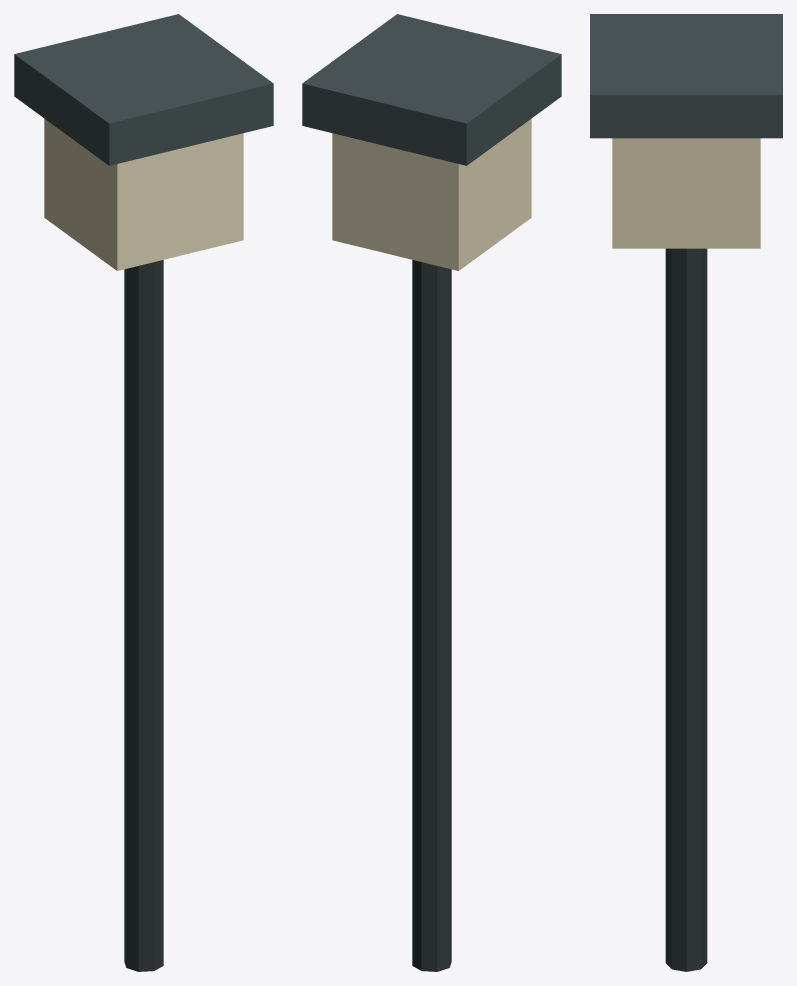
File: garden_lamp.glb
3 views of the same model, side by side, from view 1: azimuth 30°, elevation 25°; view 2: azimuth 150°, elevation 25°; view 3: azimuth 270°, elevation 25° (orthographic).
Parts seen in each view (by area): view 1: garden_lamp; view 2: garden_lamp; view 3: garden_lamp.
Boxes of the visible parts, <box> form: garden_lamp: <box>14,14,273,971</box>; garden_lamp: <box>302,14,561,971</box>; garden_lamp: <box>590,14,782,971</box>.
Size of the model in its own units: 0.65 by 3.38 by 0.65.
